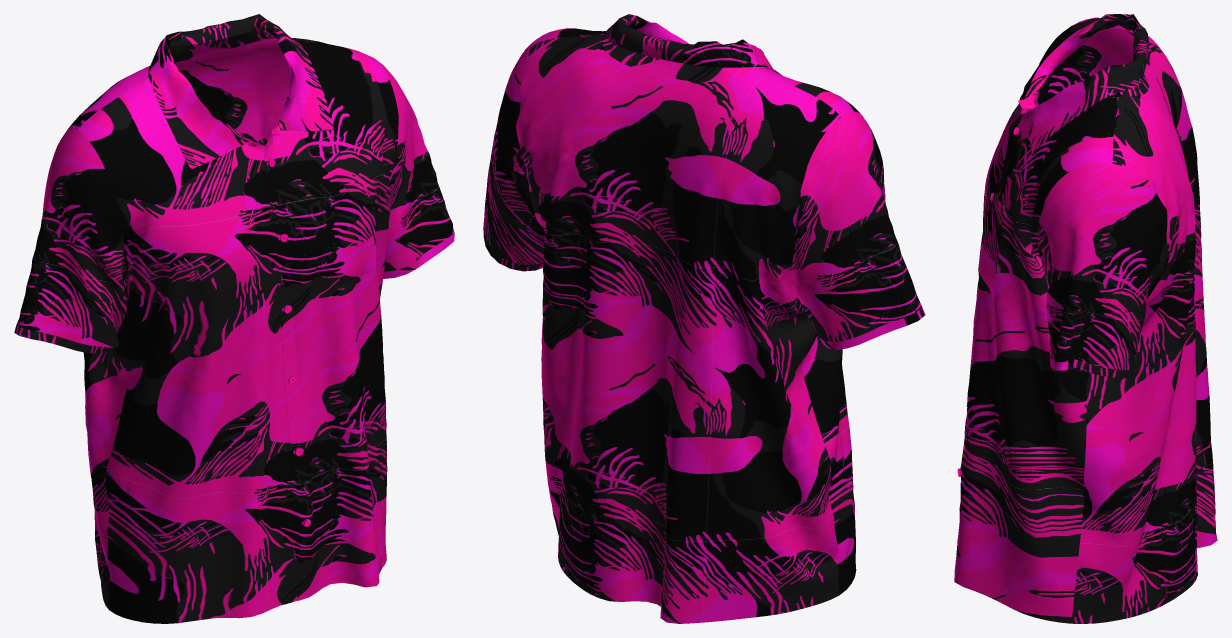
Rendered from neo-tokyo.glb.
The picture shows the model from 3 angles, left to right: view 1: azimuth 30°, elevation 25°; view 2: azimuth 150°, elevation 25°; view 3: azimuth 270°, elevation 25°; orthographic projection. The views are drawn at different scales.
Parts seen in each view (by area): view 1: Object_6, Object_13, Object_3, Object_5, Object_12, Object_4, Object_11, Object_8, Object_7; view 2: Object_3, Object_13, Object_6, Object_12, Object_5, Object_8; view 3: Object_3, Object_6, Object_12, Object_5, Object_13, Object_11, Object_7, Object_4.
Boxes of the visible parts, box(x1,y1,x2,y2) form: Object_6: box(78, 40, 398, 623); Object_13: box(16, 127, 128, 347); Object_3: box(67, 37, 331, 609); Object_5: box(144, 14, 333, 169); Object_12: box(375, 59, 452, 271); Object_4: box(245, 124, 311, 600); Object_11: box(319, 175, 376, 285); Object_8: box(14, 325, 111, 353); Object_7: box(383, 227, 454, 278); Object_3: box(515, 33, 840, 623); Object_13: box(792, 111, 921, 342); Object_6: box(532, 28, 861, 594); Object_12: box(483, 40, 544, 264); Object_5: box(602, 14, 782, 81); Object_8: box(820, 307, 925, 349); Object_3: box(1071, 30, 1217, 623); Object_6: box(954, 17, 1116, 623); Object_12: box(1037, 163, 1171, 370); Object_5: box(1024, 14, 1150, 154); Object_13: box(1037, 28, 1133, 104); Object_11: box(978, 180, 1008, 298); Object_7: box(1050, 358, 1134, 378); Object_4: box(960, 96, 1035, 479).
Bounding box in the file's own units: 0.589 × 0.7019 × 0.3166.
Materials: 2 (1 with a texture image).
